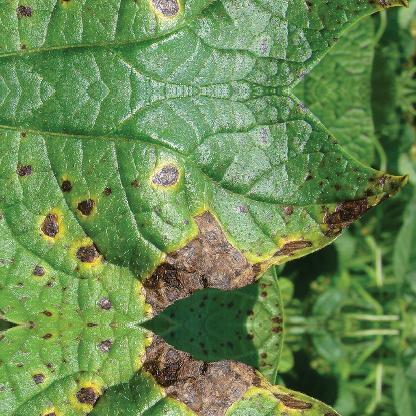Early-Blight: (7, 115, 408, 321), (7, 329, 408, 416), (7, 0, 408, 67)
